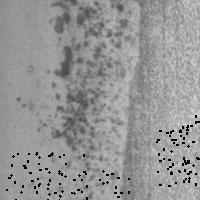pitted_surface: (37, 1, 127, 188), (119, 1, 200, 198), (6, 152, 63, 200), (28, 154, 86, 200), (156, 129, 200, 185), (169, 115, 200, 174), (68, 170, 128, 200)
